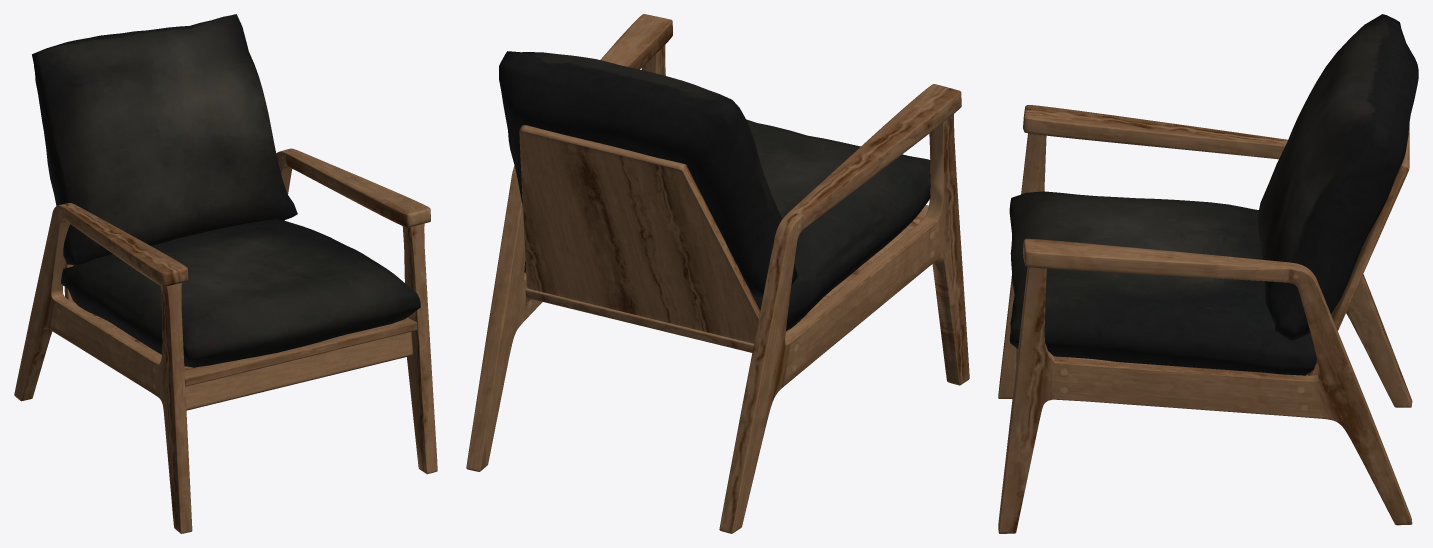
File: modern_arm_chair_01.glb
3 renders of one model, left to right at view 1: azimuth 30°, elevation 25°; view 2: azimuth 150°, elevation 25°; view 3: azimuth 270°, elevation 25°, orthographic. The views are drawn at different scales.
Parts seen in each view (by area): view 1: modern_arm_chair_01; view 2: modern_arm_chair_01; view 3: modern_arm_chair_01.
Part boxes in pixels (x1,y1,x2,y2): modern_arm_chair_01: (14,14,437,533); modern_arm_chair_01: (466,14,969,533); modern_arm_chair_01: (998,14,1418,533).
Bounding box in the file's own units: 0.8203 × 1.02 × 0.9865.
Materials: 2 (2 with a texture image).
